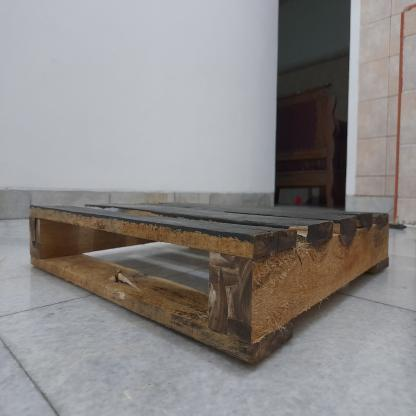Wooden-Pallet: (29, 200, 391, 371)
